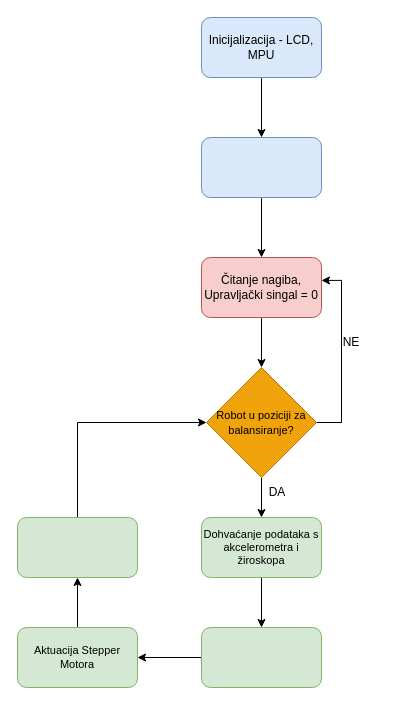
Image size: 399x705. Some labels were removed from this diagram. Here are the shapes that lost their labels. From the top down, the centre of each, then its label:
pixel 261 167: Kalibracija
pixel 77 547: Čitanje nagiba
pixel 261 657: Računanje upravljačkog signala
